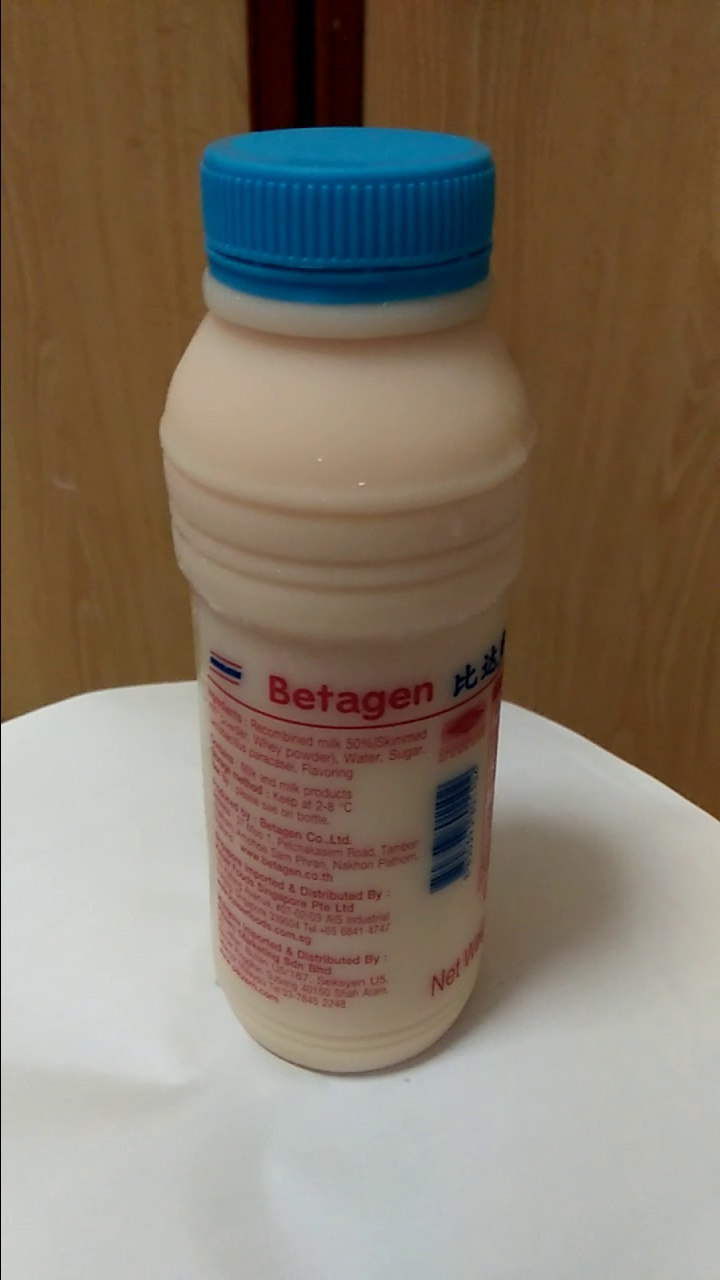mlik2: (176, 125, 511, 1076)
